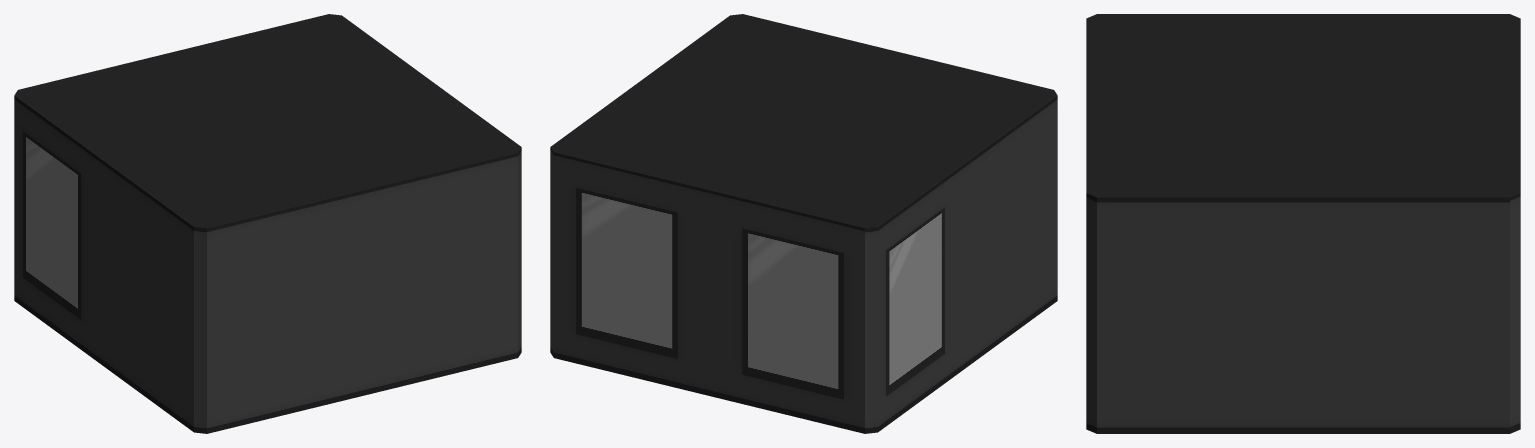
The model's file is BuildingModular.fbx.
3 renders of one model, left to right at view 1: azimuth 30°, elevation 25°; view 2: azimuth 150°, elevation 25°; view 3: azimuth 270°, elevation 25°, orthographic. The views are drawn at different scales.
Parts seen in each view (by area): view 1: Building; view 2: Building; view 3: Building.
Part boxes in pixels (box(x1,y1,x2,y2)): Building: box(14, 14, 521, 433); Building: box(550, 14, 1057, 433); Building: box(1086, 14, 1520, 433).
Size of the model in its own units: 2000 by 1200 by 2000.
